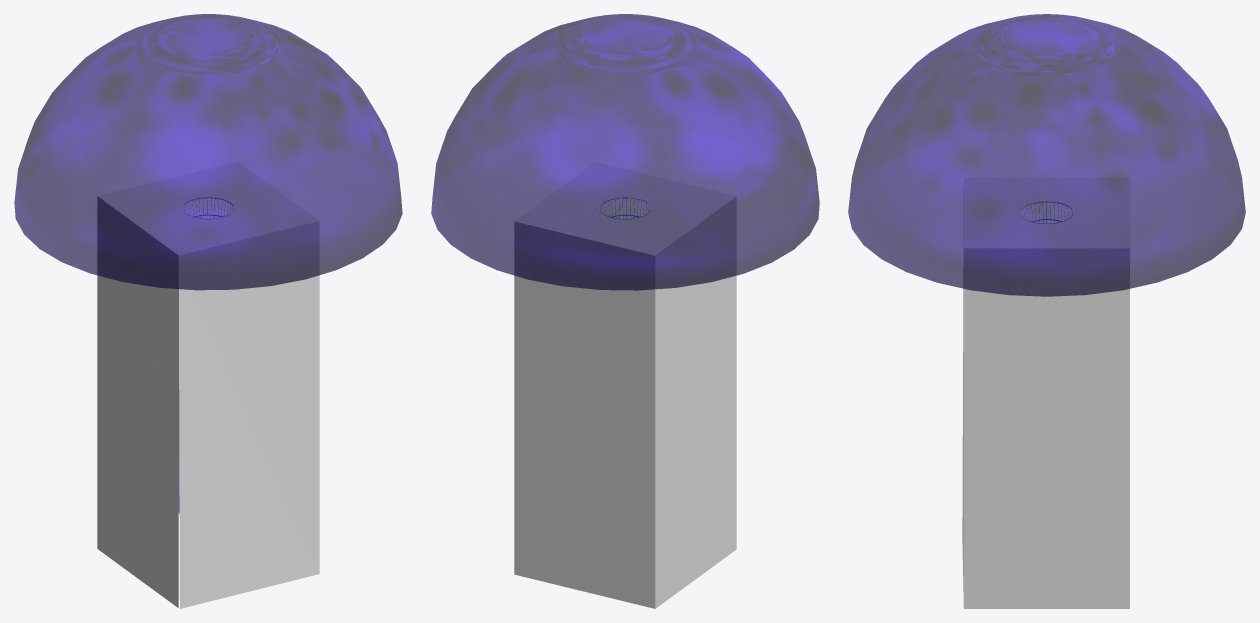
The model's file is bluemolecular.glb.
The picture shows the model from 3 angles, left to right: view 1: azimuth 30°, elevation 25°; view 2: azimuth 150°, elevation 25°; view 3: azimuth 270°, elevation 25°; orthographic projection. The views are drawn at different scales.
Parts seen in each view (by area): view 1: clip, dome, universe; view 2: clip, dome, universe; view 3: dome, clip, universe.
Boxes of the visible parts, <box> form: clip: <box>97,162,319,608</box>; dome: <box>14,14,402,290</box>; universe: <box>178,198,233,513</box>; clip: <box>514,162,736,608</box>; dome: <box>431,14,819,290</box>; universe: <box>600,198,650,218</box>; dome: <box>848,14,1245,296</box>; clip: <box>962,178,1129,608</box>; universe: <box>1021,202,1072,223</box>.
Size of the model in its own units: 20 by 30.04 by 20.
Materials: 3 (1 with a texture image).
